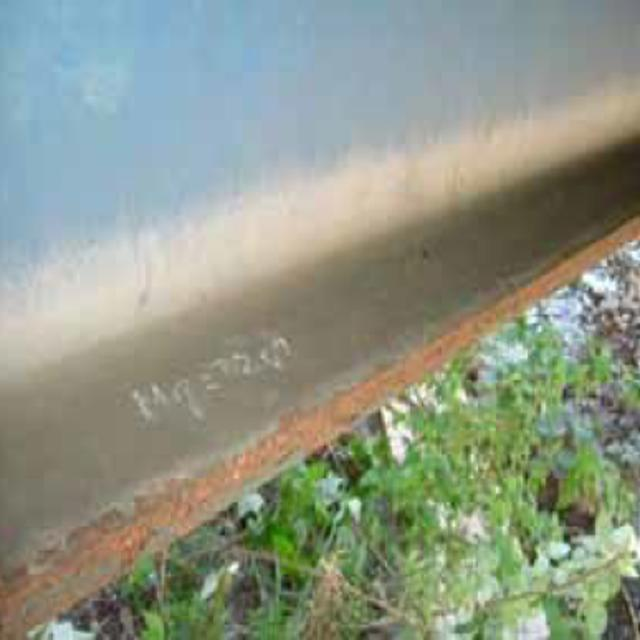corrosion: (7, 242, 607, 624)
